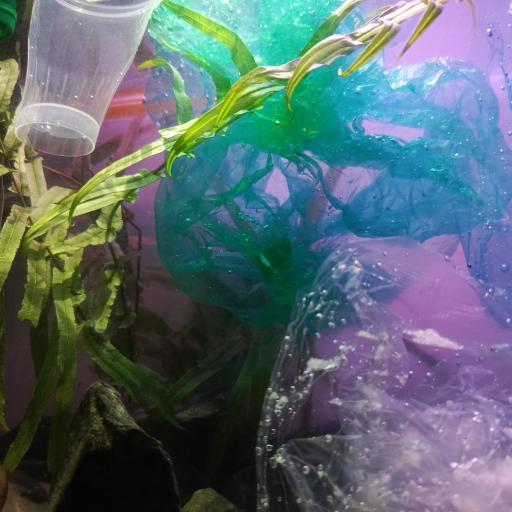plastic_bag: (149, 0, 512, 328), (255, 232, 512, 512)
plastic_cup: (16, 0, 158, 159)
plastic_straw: (106, 93, 155, 115)
